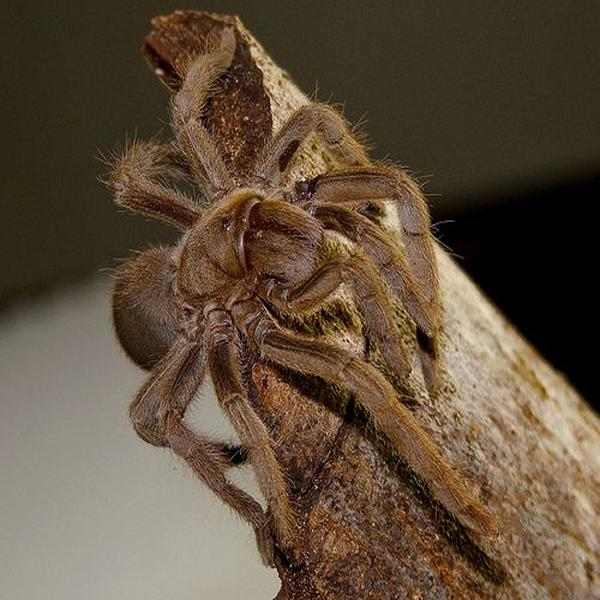Tarantula Spider: (110, 54, 486, 547)
